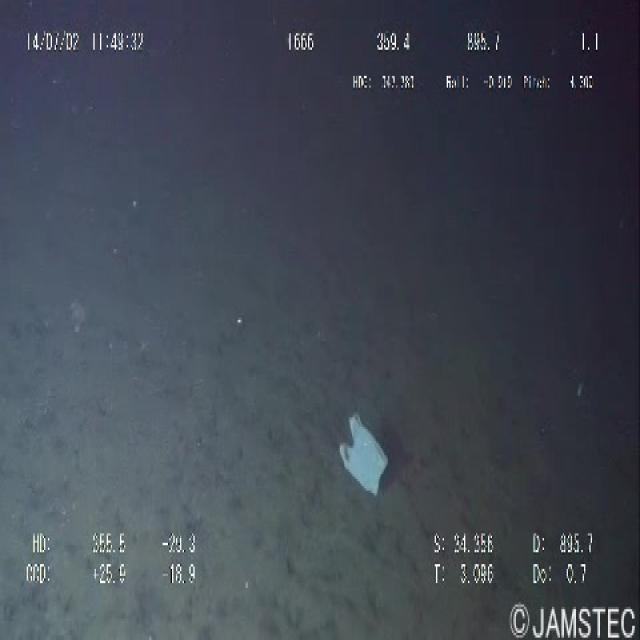plastic: (326, 396, 394, 519)
